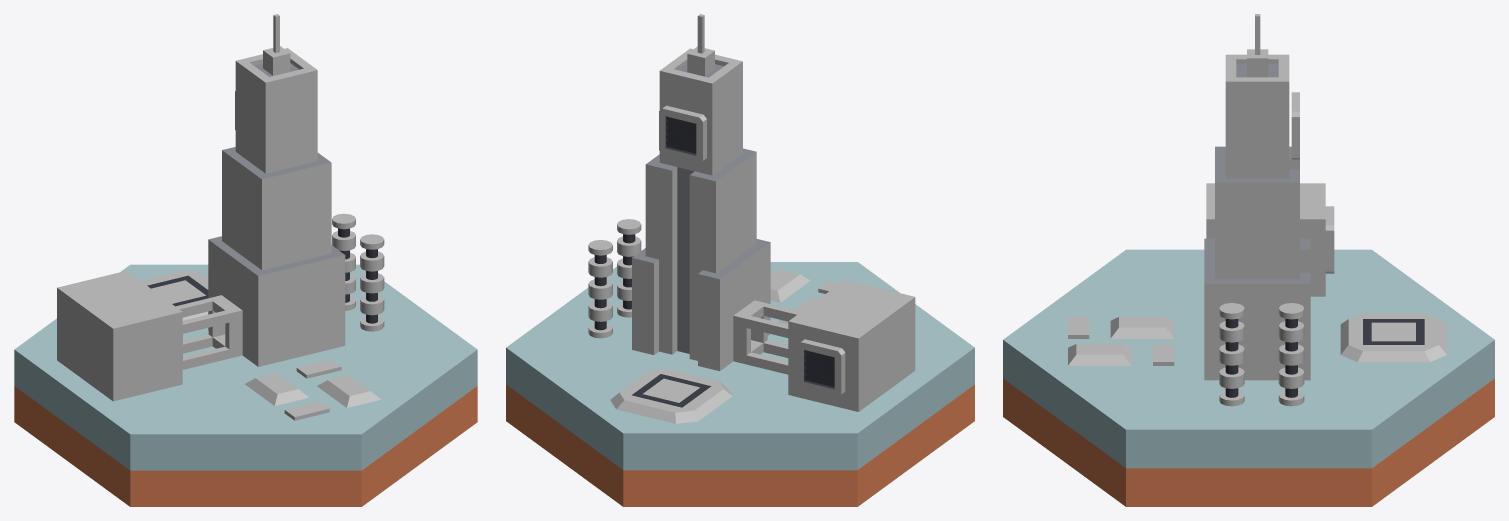
Rendered from humanTileTower.glb.
3 views of the same model, side by side, from view 1: azimuth 30°, elevation 25°; view 2: azimuth 150°, elevation 25°; view 3: azimuth 270°, elevation 25° (orthographic). The views are drawn at different scales.
Parts seen in each view (by area): view 1: mergedBlocks(Clone); view 2: mergedBlocks(Clone); view 3: mergedBlocks(Clone).
Boxes of the visible parts, left/top/right/bottom form: mergedBlocks(Clone): left=14, top=14, right=477, bottom=506; mergedBlocks(Clone): left=506, top=14, right=974, bottom=506; mergedBlocks(Clone): left=1003, top=14, right=1494, bottom=506.
Size of the model in its own units: 1 by 1.09 by 1.15.
